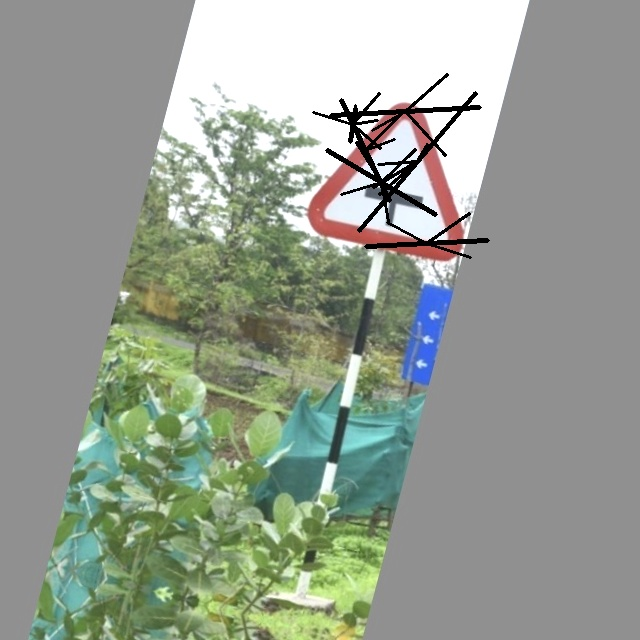T_Intersection: (311, 86, 487, 262)
